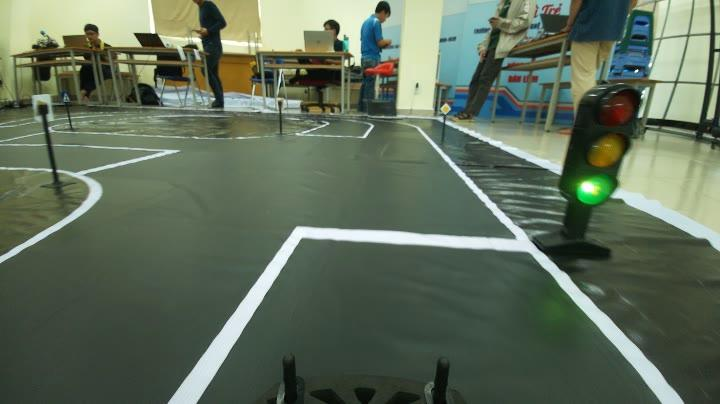trafficlight: (558, 78, 646, 217)
